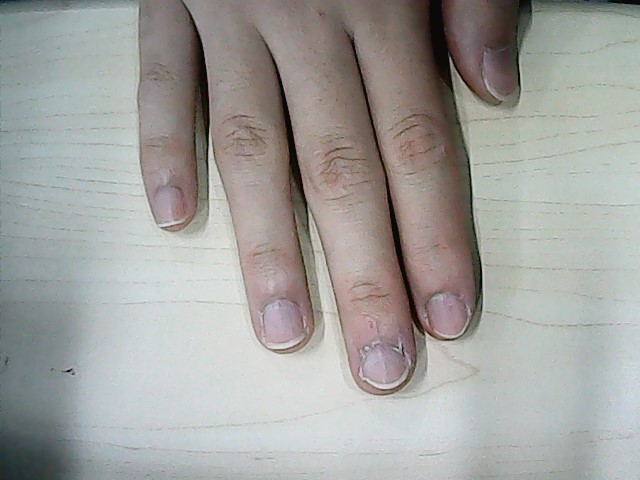nail: (484, 49, 521, 104), (264, 299, 305, 348), (360, 348, 409, 388), (427, 299, 470, 337), (152, 192, 184, 227)
